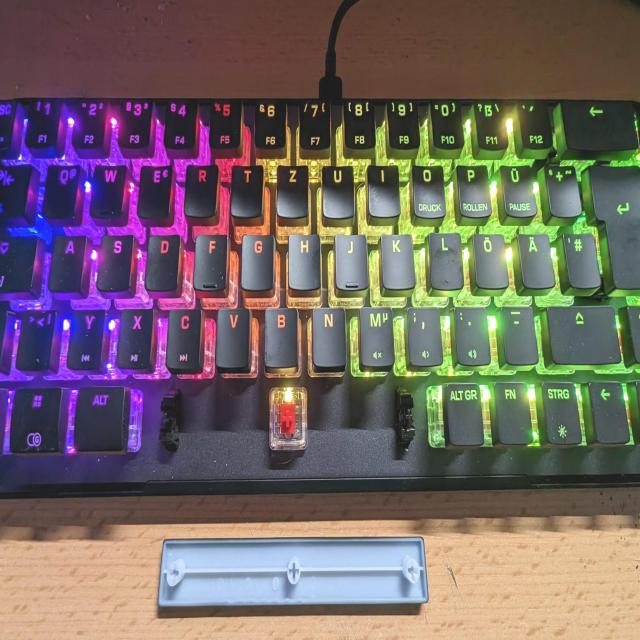0: (336, 73, 364, 116)
1: (13, 70, 44, 116)
2: (50, 72, 78, 118)
3: (87, 70, 115, 117)
4: (123, 72, 151, 118)
5: (159, 71, 187, 117)
6: (195, 73, 223, 119)
7: (231, 74, 258, 117)
8: (266, 74, 294, 118)
9: (301, 73, 329, 117)
a: (32, 182, 62, 229)
accent: (406, 72, 434, 115)
ae: (407, 178, 437, 224)
alt-left: (51, 301, 99, 355)
altgr-right: (350, 301, 380, 352)
b: (203, 238, 231, 289)
c: (125, 238, 154, 291)
caret: (0, 71, 16, 117)
comma: (318, 238, 347, 288)
d: (108, 179, 136, 227)
del: (439, 73, 505, 115)
e: (102, 125, 131, 171)
enter: (461, 124, 506, 226)
f: (146, 178, 174, 226)
g: (184, 179, 211, 226)
h: (221, 179, 249, 226)
hash: (442, 177, 473, 225)
i: (286, 123, 313, 169)
j: (259, 179, 287, 226)
k: (296, 179, 325, 226)
keyboard: (0, 59, 506, 393)
l: (335, 177, 364, 226)
less: (7, 241, 37, 294)
m: (280, 238, 308, 290)
minus: (394, 237, 423, 287)
n: (241, 238, 269, 288)
o: (322, 124, 350, 171)
oe: (371, 178, 399, 225)
p: (358, 126, 387, 170)
plus: (429, 124, 458, 169)
point: (356, 239, 385, 288)
q: (25, 125, 57, 171)
r: (140, 125, 167, 170)
s: (69, 181, 99, 228)
shift-left: (0, 241, 16, 294)
shift-lock: (0, 181, 29, 231)
shift-right: (428, 235, 488, 286)
ss: (371, 72, 399, 115)
strg-left: (0, 305, 13, 357)
strg-right: (427, 299, 460, 351)
t: (176, 124, 203, 169)
tab: (0, 123, 25, 173)
u: (249, 123, 277, 170)
ue: (394, 125, 423, 169)
v: (164, 238, 192, 288)
w: (64, 123, 93, 169)
x: (87, 238, 116, 291)
y: (47, 240, 77, 293)
z: (213, 122, 240, 170)
